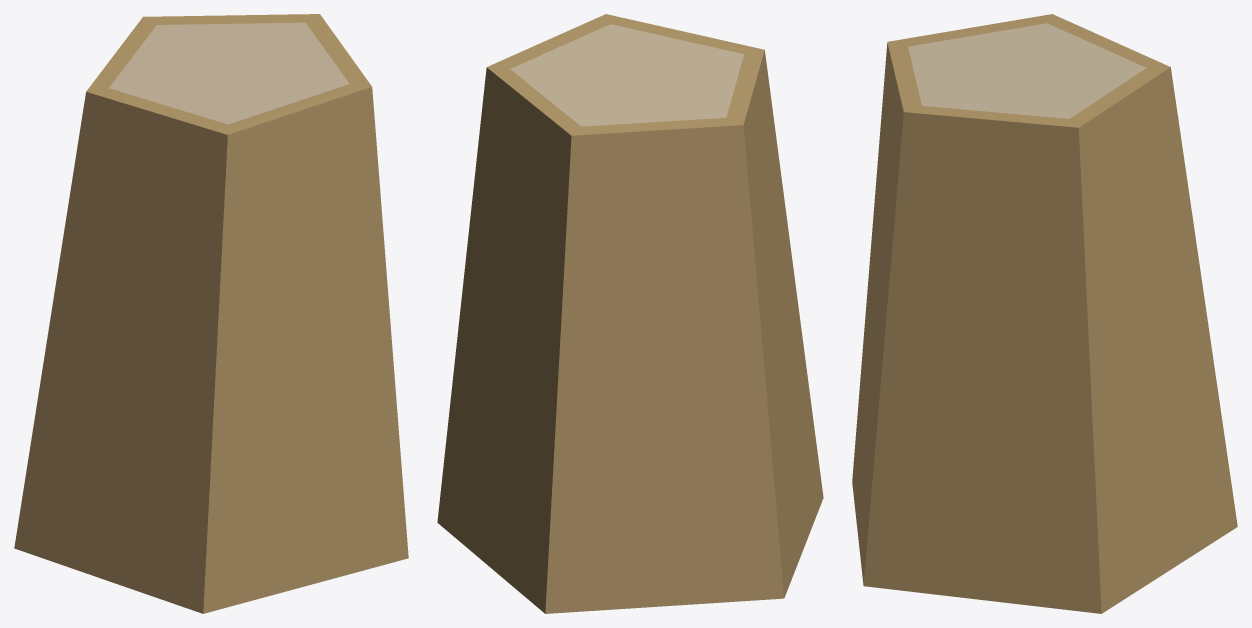
File: Apple_Stump_02.fbx
The picture shows the model from 3 angles, left to right: view 1: azimuth 30°, elevation 25°; view 2: azimuth 150°, elevation 25°; view 3: azimuth 270°, elevation 25°; orthographic projection. The views are drawn at different scales.
Visible parts, largest first — view 1: Apple_Stump_02; view 2: Apple_Stump_02; view 3: Apple_Stump_02.
Boxes of the visible parts, box(x1,y1,x2,y2) form: Apple_Stump_02: box(14, 14, 408, 613); Apple_Stump_02: box(437, 14, 823, 613); Apple_Stump_02: box(852, 14, 1237, 613).
Bounding box in the file's own units: 54.47 × 70.33 × 52.62.
